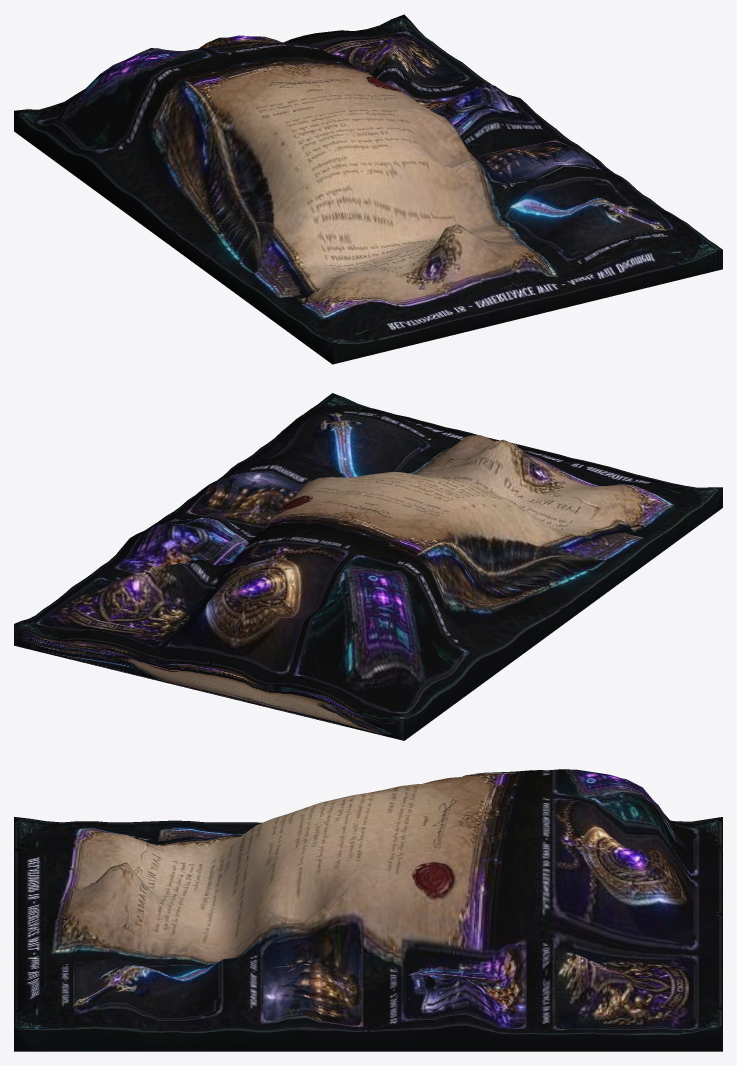
File: RELATIONSHIP_18_Inheritance_Will.glb
3 views of the same model, one above another, from view 1: azimuth 30°, elevation 25°; view 2: azimuth 150°, elevation 25°; view 3: azimuth 270°, elevation 25° (orthographic). The views are drawn at different scales.
Parts seen in each view (by area): view 1: RELATIONSHIP_18_Inheritance_Will; view 2: RELATIONSHIP_18_Inheritance_Will; view 3: RELATIONSHIP_18_Inheritance_Will.
Part boxes in pixels (left/top/right/bottom): RELATIONSHIP_18_Inheritance_Will: left=14, top=14, right=722, bottom=364; RELATIONSHIP_18_Inheritance_Will: left=14, top=393, right=722, bottom=740; RELATIONSHIP_18_Inheritance_Will: left=14, top=769, right=722, bottom=1051.
Bounding box in the file's own units: 2 × 0.51 × 2.83.
1 material, 1 textured.
